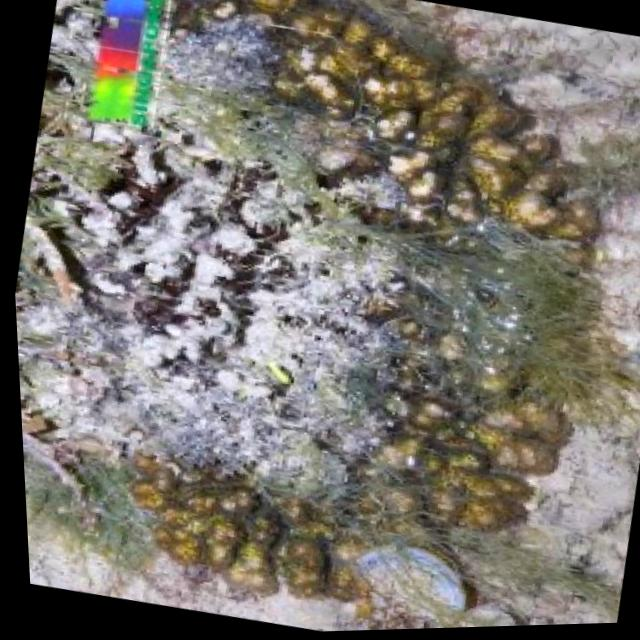Bleached Coral: (0, 3, 415, 543)
